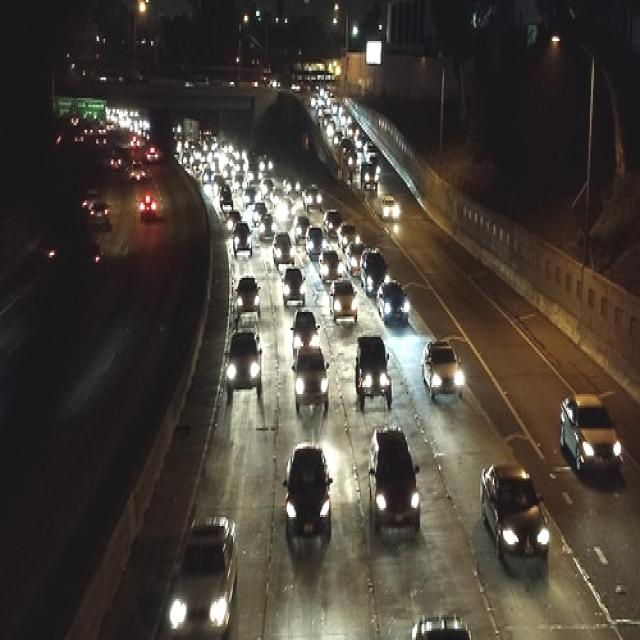Carro Branco: (163, 508, 241, 640), (289, 344, 337, 414), (223, 330, 264, 407)
Carro Cinza: (353, 335, 397, 411)
Carro Prata: (558, 392, 622, 482), (418, 339, 466, 399)
Carro Preto: (475, 460, 555, 572), (278, 439, 341, 547), (364, 431, 422, 537)
